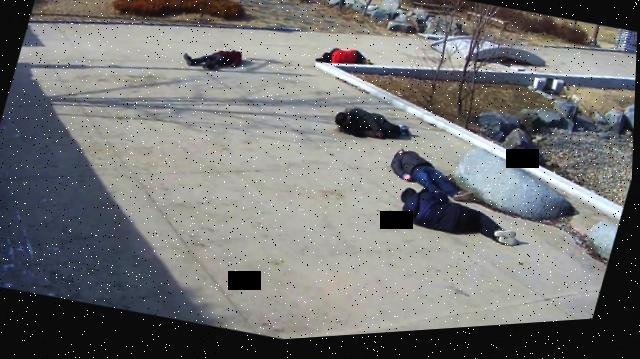fall: (391, 183, 532, 268), (385, 148, 487, 212), (328, 103, 419, 158), (177, 38, 244, 86), (312, 41, 381, 82)
